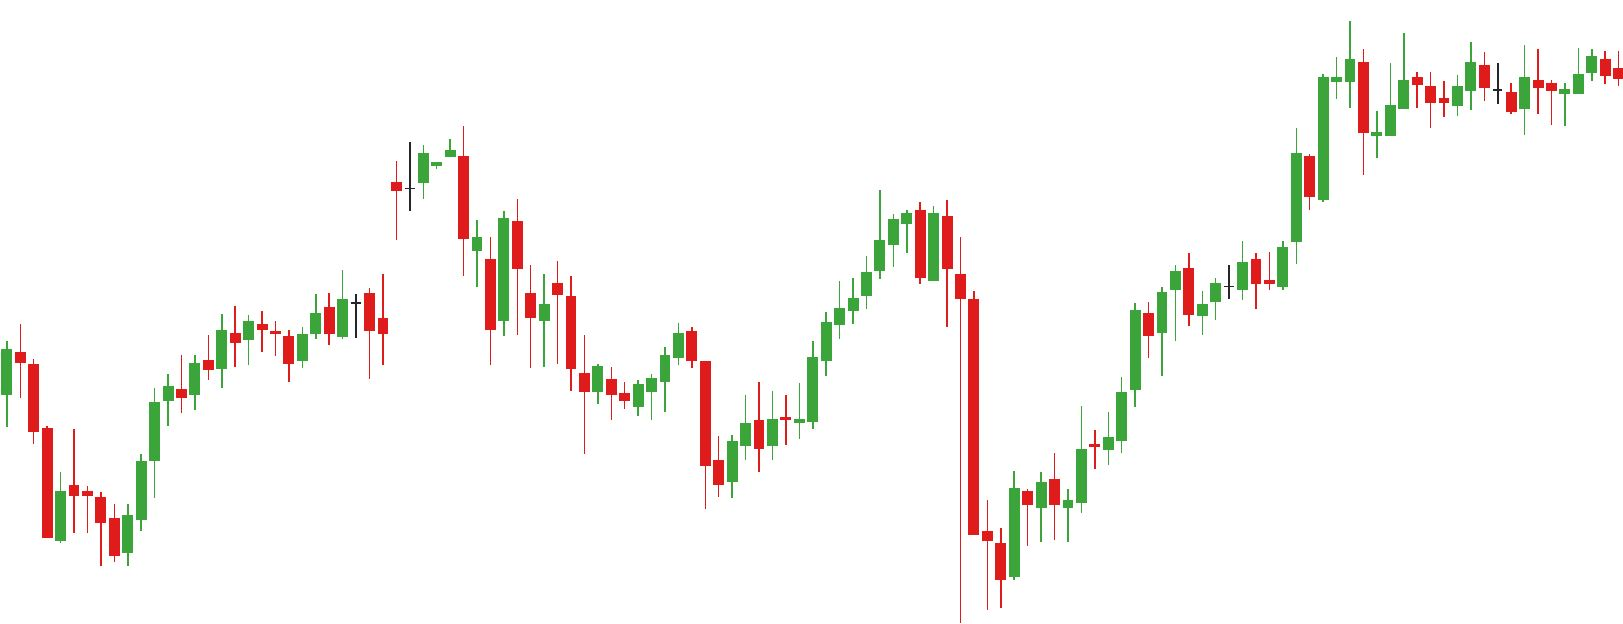buy: (576, 358, 740, 507)
